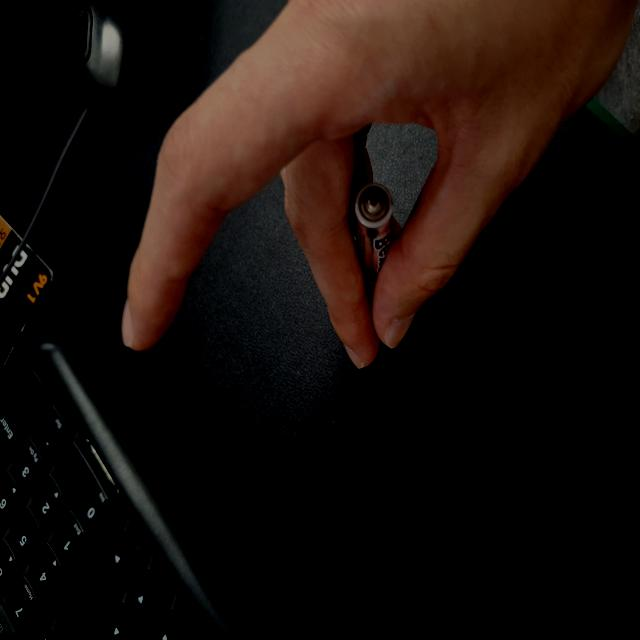AAA: (262, 470, 342, 524)
